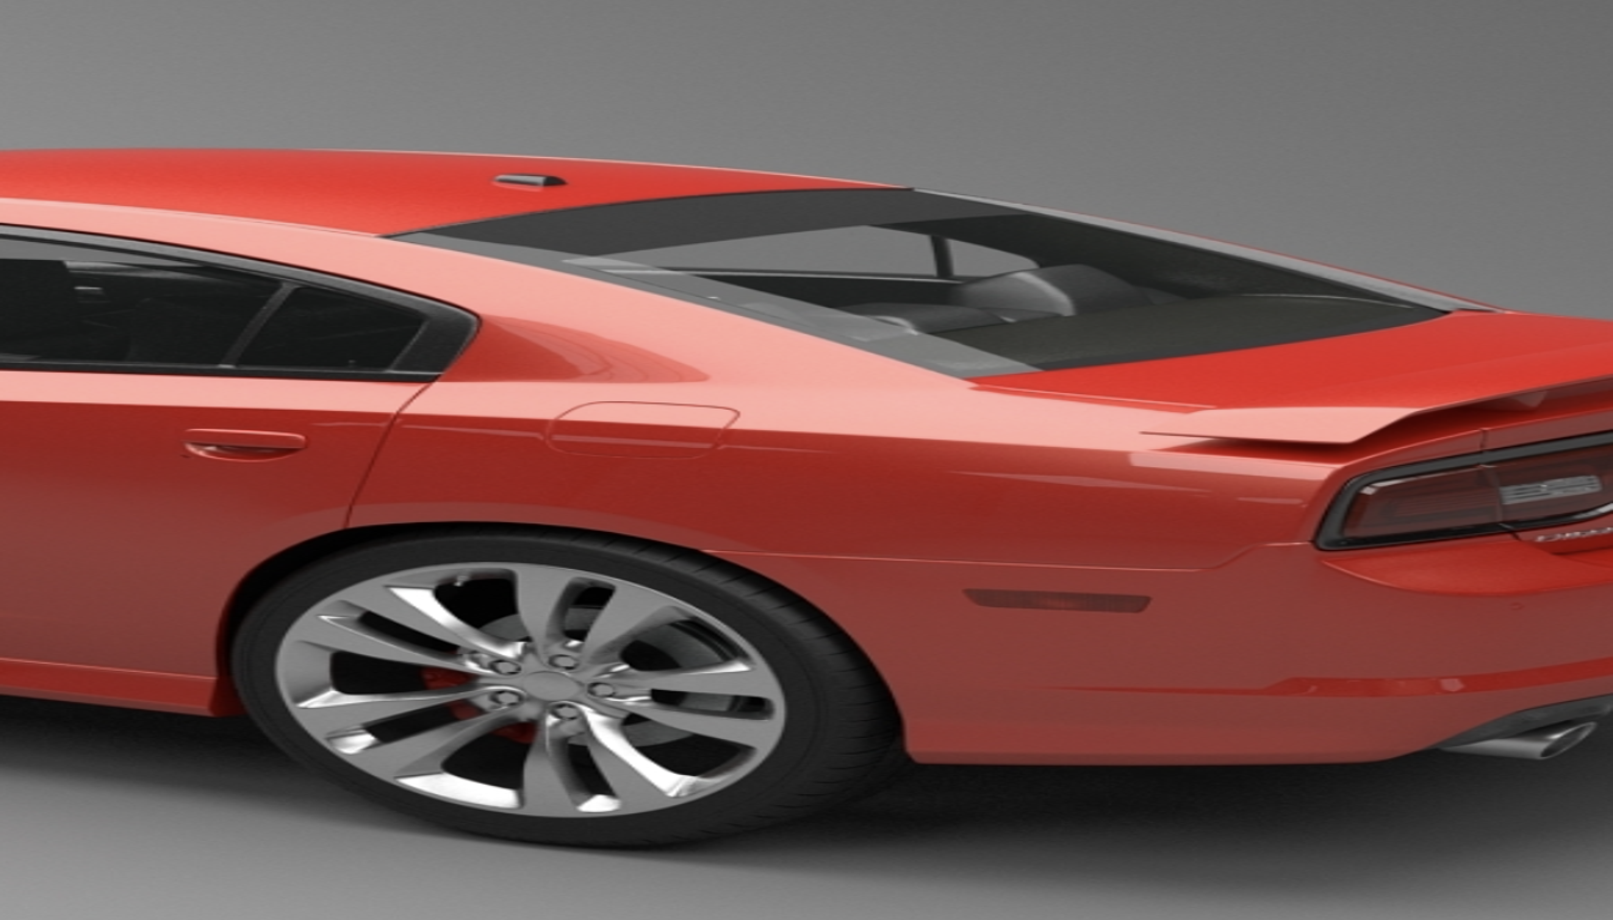hatch: (536, 393, 749, 471)
